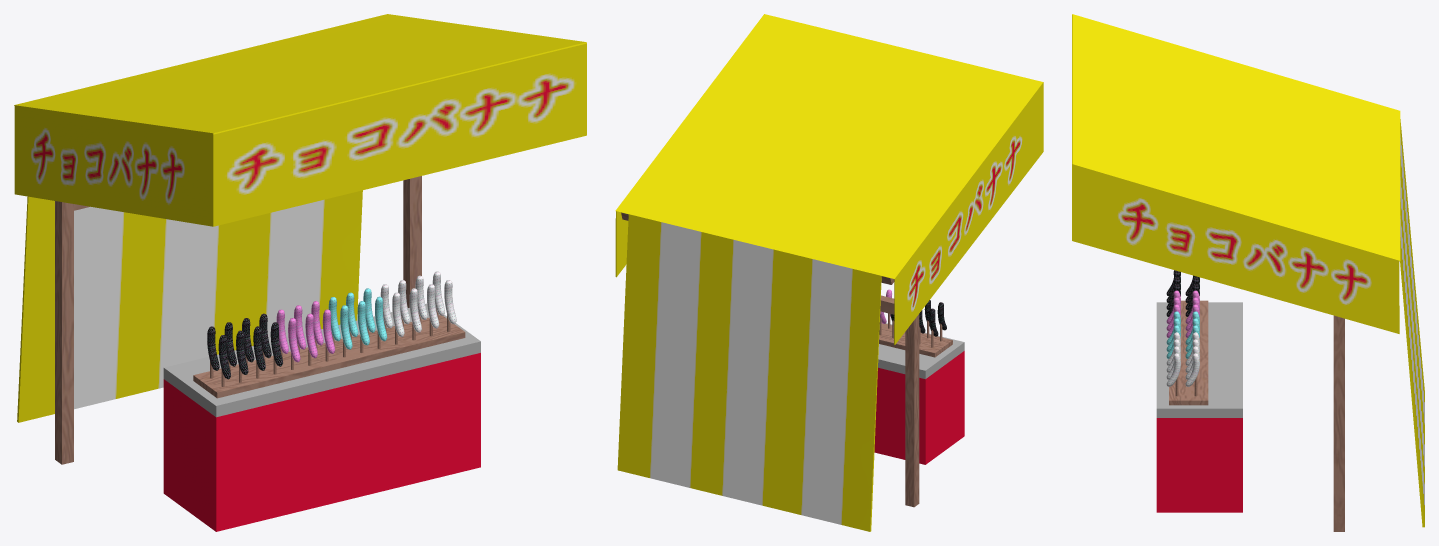
The model's file is tyokobanana.FBX.
3 views of the same model, side by side, from view 1: azimuth 30°, elevation 25°; view 2: azimuth 150°, elevation 25°; view 3: azimuth 270°, elevation 25° (orthographic). The views are drawn at different scales.
Parts seen in each view (by area): view 1: tyokobanana; view 2: tyokobanana; view 3: tyokobanana.
Boxes of the visible parts, box(x1,y1,x2,y2) form: tyokobanana: box(14, 14, 586, 531); tyokobanana: box(615, 14, 1043, 531); tyokobanana: box(1072, 14, 1424, 531).
Size of the model in its own units: 155 by 178 by 154.
Materials: 1 (1 with a texture image).
